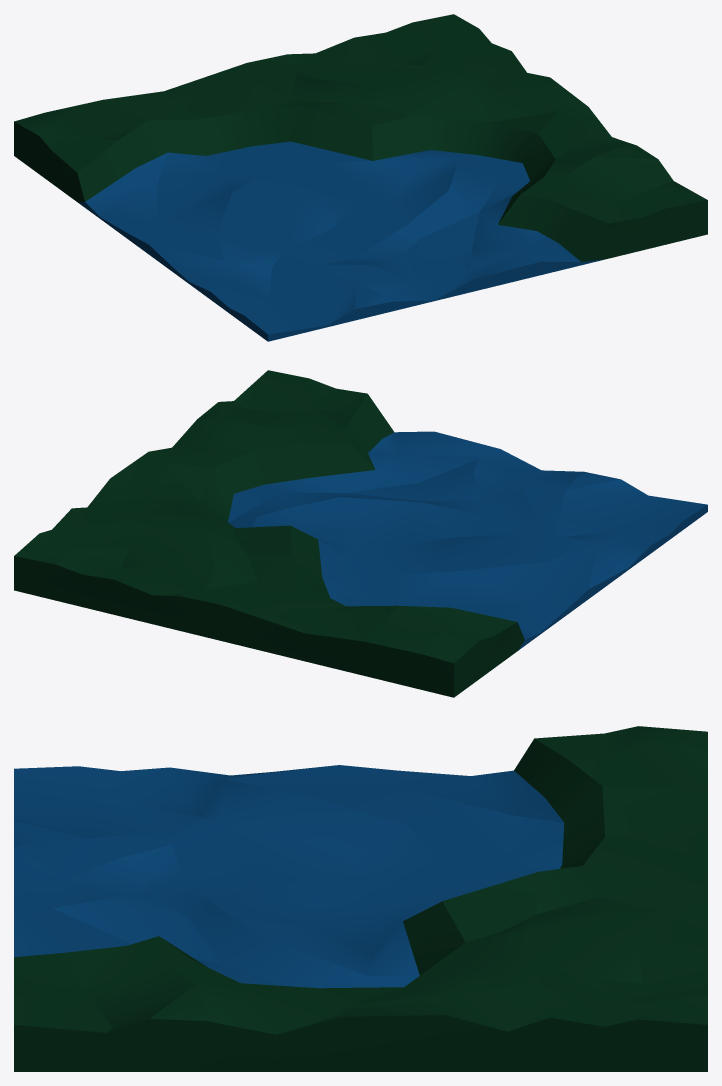
File: Water_Corner_Internal_RU.fbx
3 views of the same model, one above another, from view 1: azimuth 30°, elevation 25°; view 2: azimuth 150°, elevation 25°; view 3: azimuth 270°, elevation 25° (orthographic). The views are drawn at different scales.
Visible parts, largest first — view 1: Water_Corner_Internal_RU; view 2: Water_Corner_Internal_RU; view 3: Water_Corner_Internal_RU.
Part boxes in pixels (x1,y1,x2,y2): Water_Corner_Internal_RU: (14,14,707,341); Water_Corner_Internal_RU: (14,370,707,697); Water_Corner_Internal_RU: (14,726,707,1071).
Size of the model in its own units: 147 by 13.97 by 147.
